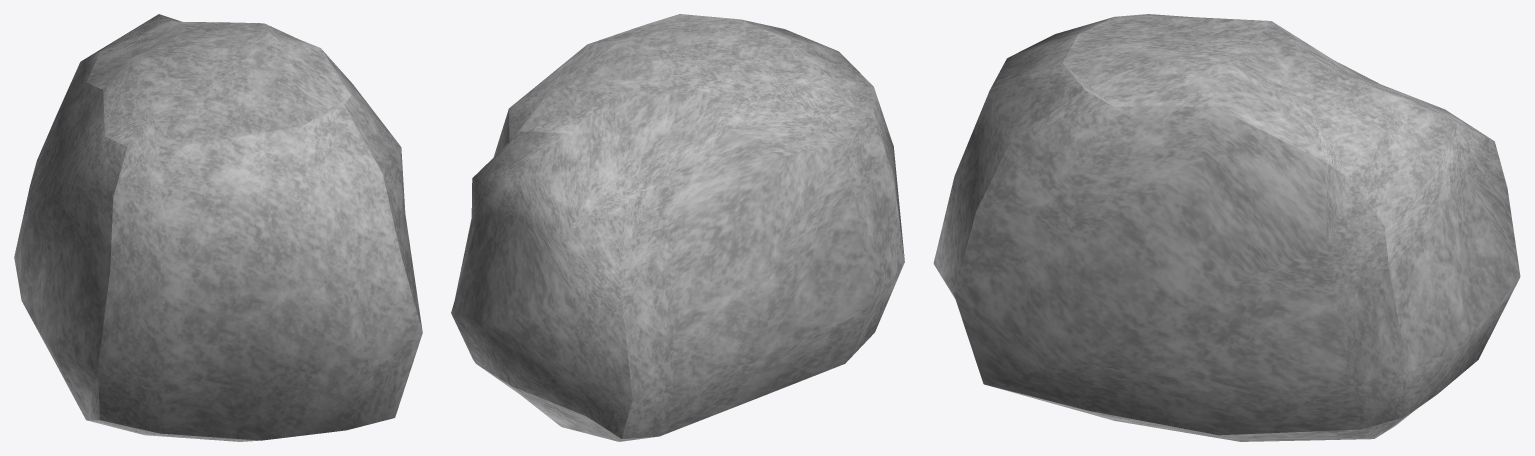
The model's file is Rock.fbx.
3 views of the same model, side by side, from view 1: azimuth 30°, elevation 25°; view 2: azimuth 150°, elevation 25°; view 3: azimuth 270°, elevation 25° (orthographic). The views are drawn at different scales.
Parts seen in each view (by area): view 1: SRock; view 2: SRock; view 3: SRock.
Part boxes in pixels (box(x1,y1,x2,y2)): SRock: box(14, 14, 422, 441); SRock: box(451, 14, 904, 441); SRock: box(933, 14, 1520, 441).
Size of the model in its own units: 0.5102 by 0.5164 by 0.7112.
1 material, 1 textured.
